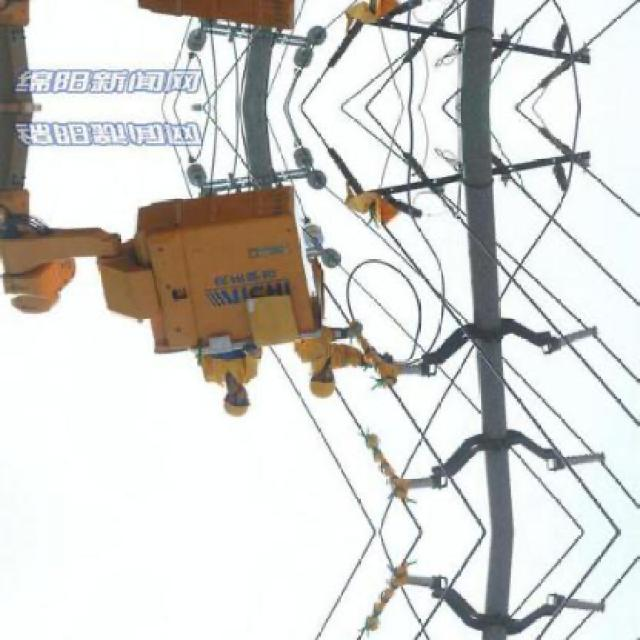con casco: (185, 388, 261, 428), (310, 351, 348, 408)
